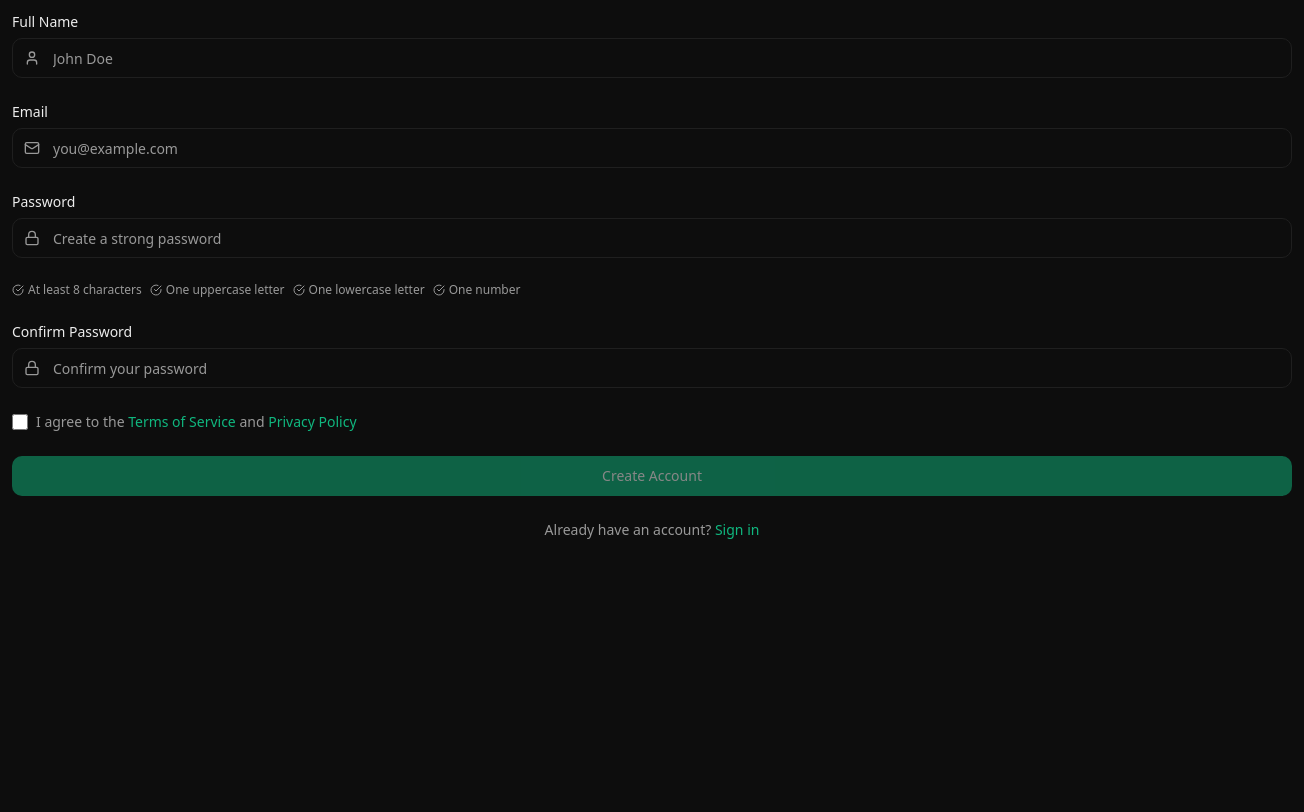
it: SignupForm › terms and conditions › blocks submission without terms acceptance
Type "John" into the field labelled "Full Name" at (652, 58), box [12,38,1292,78]
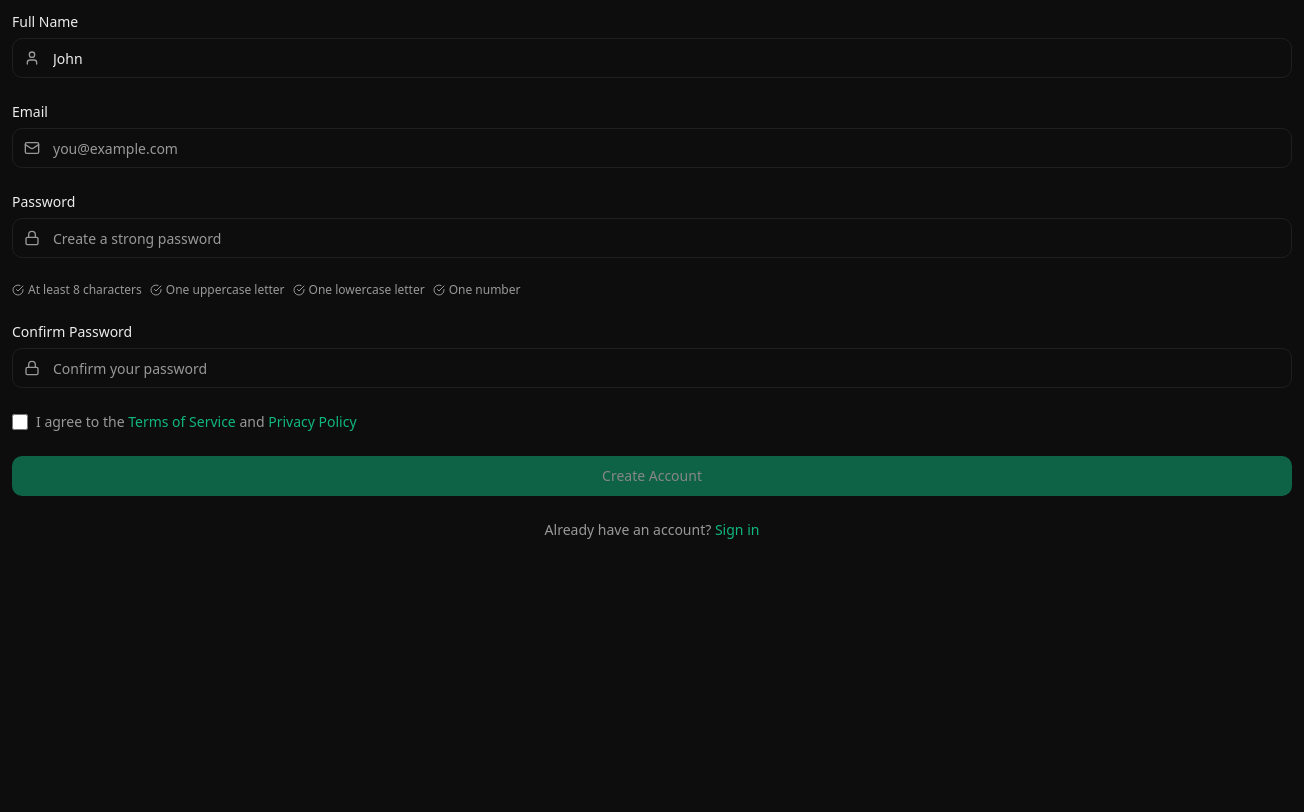
Type "john@example.com" into the field labelled "Email" at (652, 148), box [12,128,1292,168]
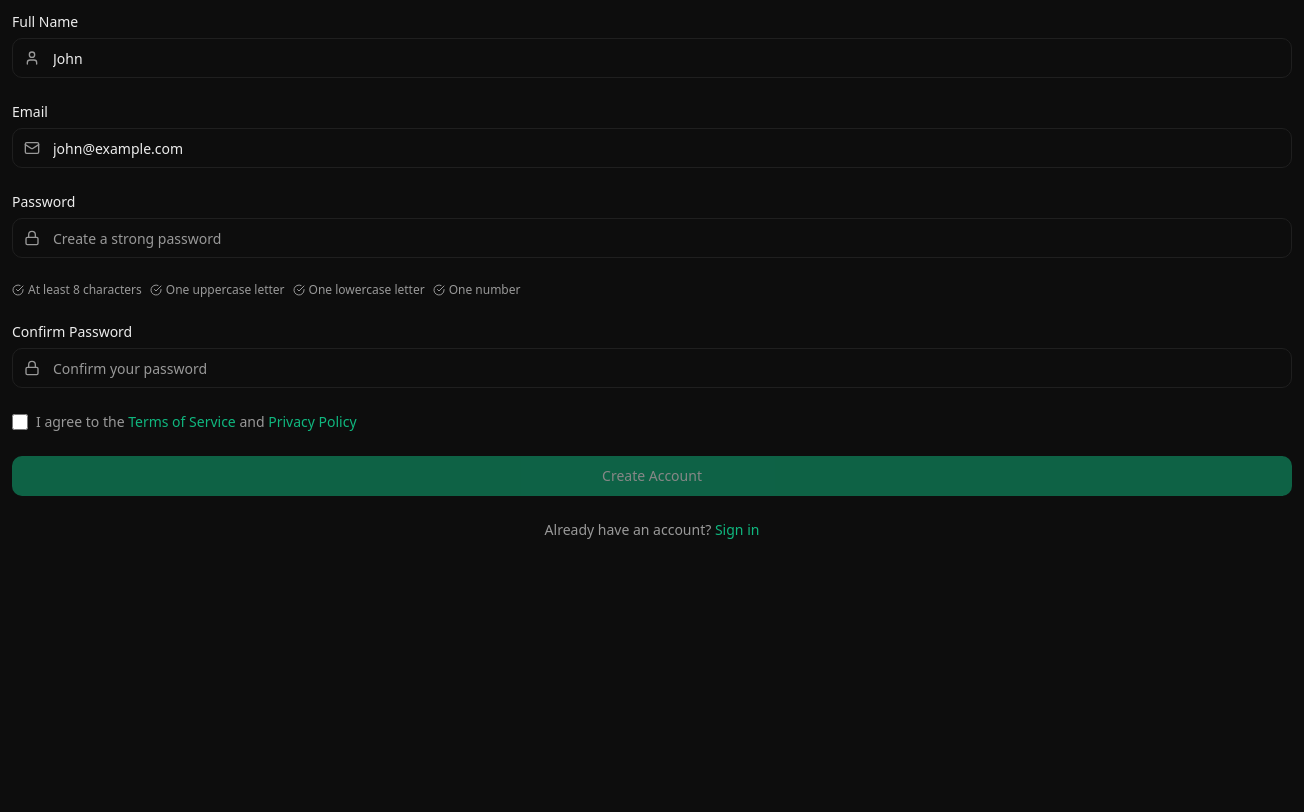
Type "Password1A" into the password field labelled "Password" at (652, 238), box [12,218,1292,258]
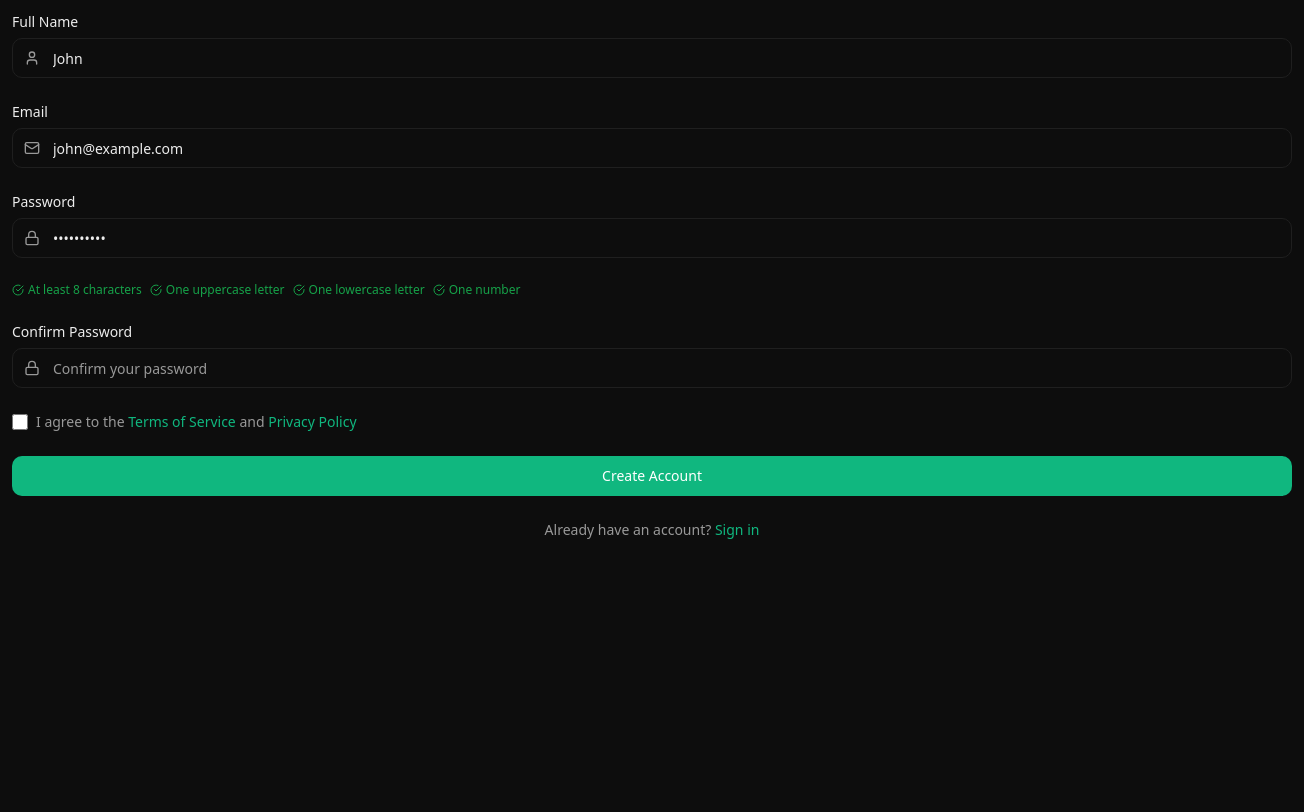
Type "Password1A" into the password field labelled "Confirm Password" at (652, 368), box [12,348,1292,388]
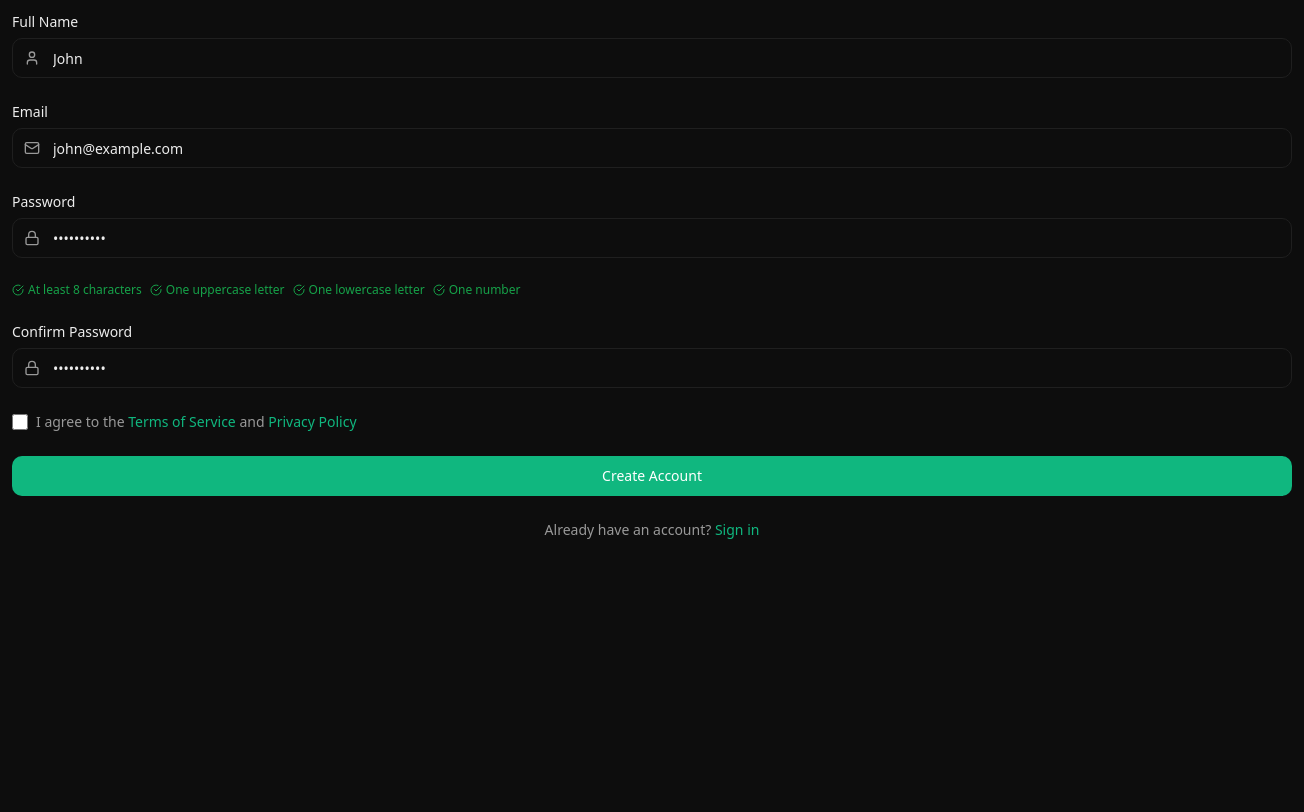
Click the button "Create Account" at (652, 476), box [12,456,1292,496]
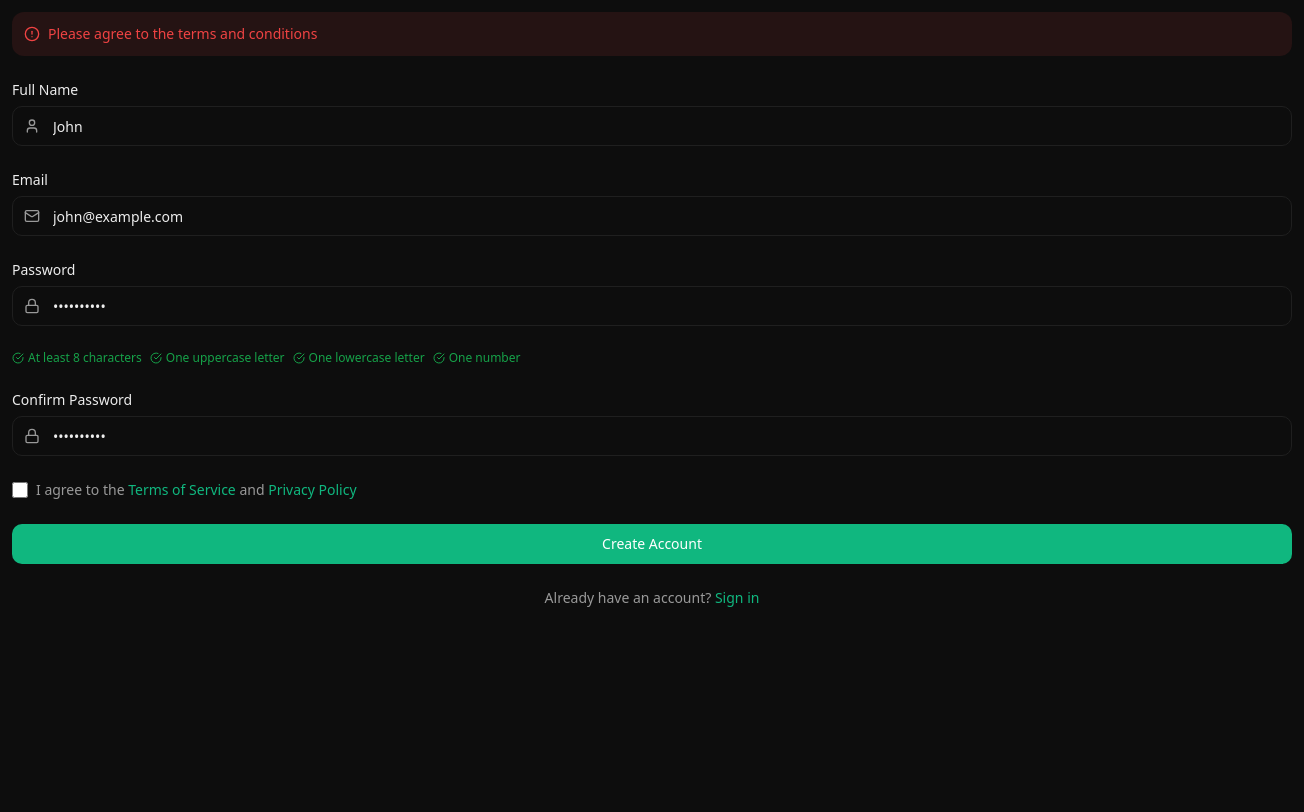
Now the text "Please agree to the terms and conditions" is shown, box [12,12,1292,56]
